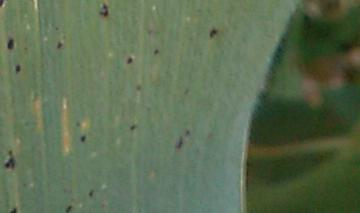tarspot: (2, 156, 17, 170), (98, 2, 109, 18), (175, 135, 183, 151), (208, 27, 217, 40), (6, 37, 14, 51), (63, 203, 73, 213), (78, 133, 88, 143), (55, 40, 63, 52), (87, 187, 95, 198), (14, 63, 21, 75), (125, 55, 132, 66), (127, 123, 136, 131), (183, 127, 191, 136), (182, 87, 190, 96), (6, 148, 14, 156), (53, 24, 61, 32), (8, 206, 17, 213), (135, 83, 142, 92), (153, 48, 160, 56), (1, 1, 8, 8), (74, 120, 81, 127)
